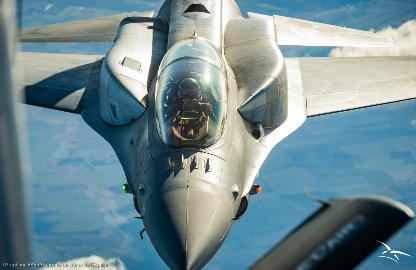F14: (9, 0, 416, 267)
